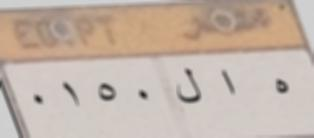0: (136, 81, 156, 113), (28, 90, 47, 115)
1: (54, 72, 84, 113)
5: (94, 77, 122, 104)
alif: (217, 65, 242, 100)
haa: (270, 73, 294, 102)
laam: (174, 65, 205, 110)
